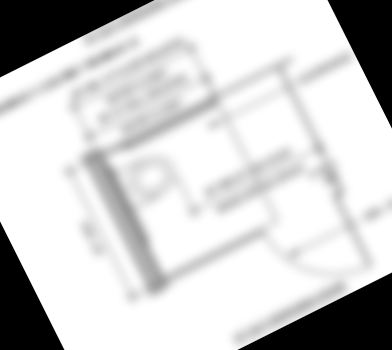door: (261, 191, 379, 307)
